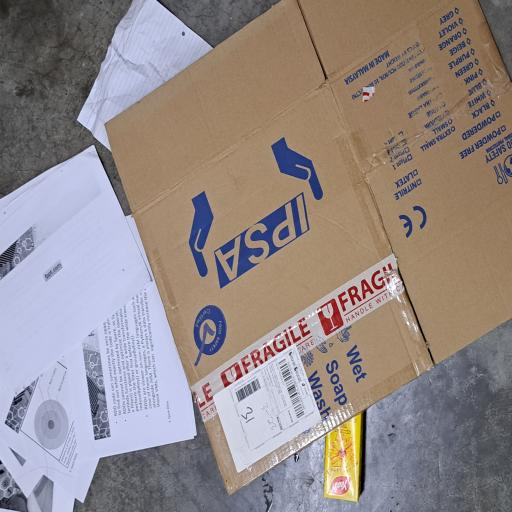cardboard: (10, 139, 384, 512)
drink carton: (8, 431, 76, 488)
paper: (0, 0, 277, 265), (272, 102, 384, 291)
